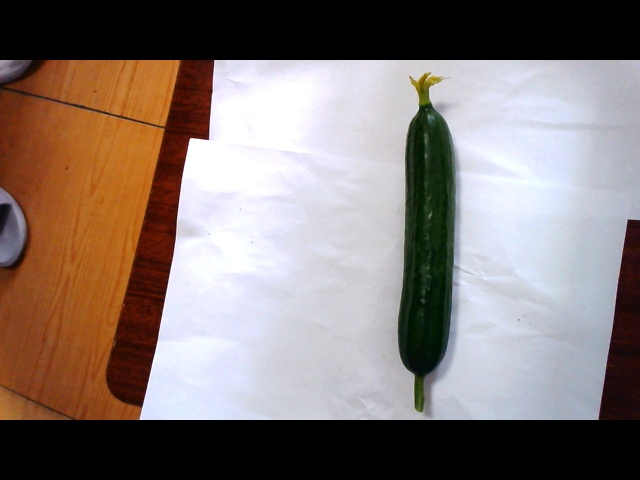cucumber: (375, 74, 468, 408)
